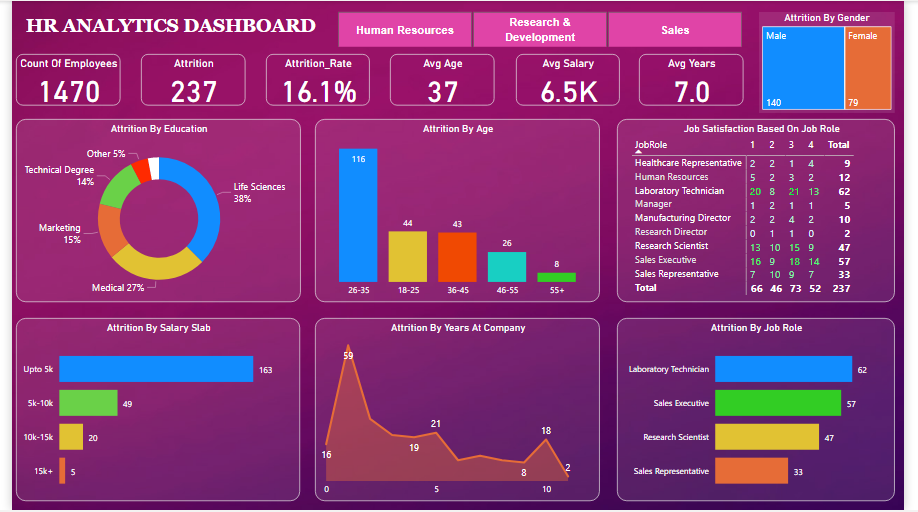

The dashboard page shown, as its layout file describes it:
{"tool":"powerbi","page":{"name":"Page 1","canvas":[1280,731],"ordinal":0},"visuals":[{"type":"card","title":"Count Of Employees","fields":{"Values":["CountNonNull(HR_Analytics.EmpID)"]},"box":[6.2,76.2,150,73.8],"z":0},{"type":"card","title":"Attrition","fields":{"Values":["Sum(HR_Analytics.Attrition_Count)"]},"box":[185,76.2,150,73.8],"z":1000},{"type":"card","title":"Attrition_Rate","fields":{"Values":["HR_Analytics.Attrition_Rate"]},"box":[365,76.2,148.8,73.8],"z":2000},{"type":"card","title":"Avg Age ","fields":{"Values":["Avg(HR_Analytics.Age)"]},"box":[542.9,75.7,150,74.3],"z":3000},{"type":"card","title":"Avg Salary","fields":{"Values":["Avg(HR_Analytics.MonthlyIncome)"]},"box":[724.3,75.7,148.6,74.3],"z":5000},{"type":"card","title":"Avg Years","fields":{"Values":["Avg(HR_Analytics.YearsAtCompany)"]},"box":[900,75.7,150,74.3],"z":6000},{"type":"donutChart","title":"Attrition By Education","fields":{"Category":["HR_Analytics.EducationField"],"Y":["Sum(HR_Analytics.Attrition_Count)"]},"box":[5.7,169.5,409.3,262.8],"z":7000},{"type":"columnChart","title":"Attrition By Age","fields":{"Y":["Sum(HR_Analytics.Attrition_Count)"],"Category":["HR_Analytics.AgeGroup"]},"box":[435.2,169.5,409.3,262.8],"z":8000},{"type":"pivotTable","title":"Job Satisfaction Based On Job Role","fields":{"Rows":["HR_Analytics.JobRole"],"Columns":["HR_Analytics.JobSatisfaction"],"Values":["Sum(HR_Analytics.Attrition_Count)"]},"box":[868.9,169.5,399.2,262.8],"z":9000},{"type":"barChart","title":"Attrition By Salary Slab","fields":{"Category":["HR_Analytics.SalarySlab"],"Y":["Sum(HR_Analytics.Attrition_Count)"]},"box":[5.7,455.3,407.9,262.8],"z":10000},{"type":"barChart","title":"Attrition By Job Role","fields":{"Y":["Sum(HR_Analytics.Attrition_Count)"],"Category":["HR_Analytics.JobRole"]},"box":[868.9,455.3,399.2,262.8],"z":11000},{"type":"areaChart","title":"Attrition By Years At Company","fields":{"Category":["HR_Analytics.YearsAtCompany"],"Y":["Sum(HR_Analytics.Attrition_Count)"]},"box":[435.2,455.3,409.3,262.8],"z":12000},{"type":"treemap","title":"Attrition By Gender","fields":{"Values":["Sum(HR_Analytics.Attrition_Count)"],"Group":["HR_Analytics.Gender"]},"box":[1072.8,15.8,195.3,145.1],"z":13000},{"type":"slicer","fields":{"Values":["HR_Analytics.Department"]},"box":[442.9,8.6,630,57.1],"z":14000},{"type":"textbox","box":[0,15.7,455.7,41.4],"z":15000}]}

Visuals, with their boxes in screenshot pixels (x1, y1, x2, y2), scaled from the page's 1280x731 canvas onto the 918x512 screenshot:
"Count Of Employees" card: Rect(4, 53, 112, 105)
"Attrition" card: Rect(133, 53, 240, 105)
"Attrition_Rate" card: Rect(262, 53, 368, 105)
"Avg Age " card: Rect(389, 53, 497, 105)
"Avg Salary" card: Rect(519, 53, 626, 105)
"Avg Years" card: Rect(645, 53, 753, 105)
"Attrition By Education" donutChart: Rect(4, 119, 298, 303)
"Attrition By Age" columnChart: Rect(312, 119, 606, 303)
"Job Satisfaction Based On Job Role" pivotTable: Rect(623, 119, 909, 303)
"Attrition By Salary Slab" barChart: Rect(4, 319, 297, 503)
"Attrition By Job Role" barChart: Rect(623, 319, 909, 503)
"Attrition By Years At Company" areaChart: Rect(312, 319, 606, 503)
"Attrition By Gender" treemap: Rect(769, 11, 909, 113)
slicer - HR_Analytics.Department: Rect(318, 6, 769, 46)
textbox: Rect(0, 11, 327, 40)
